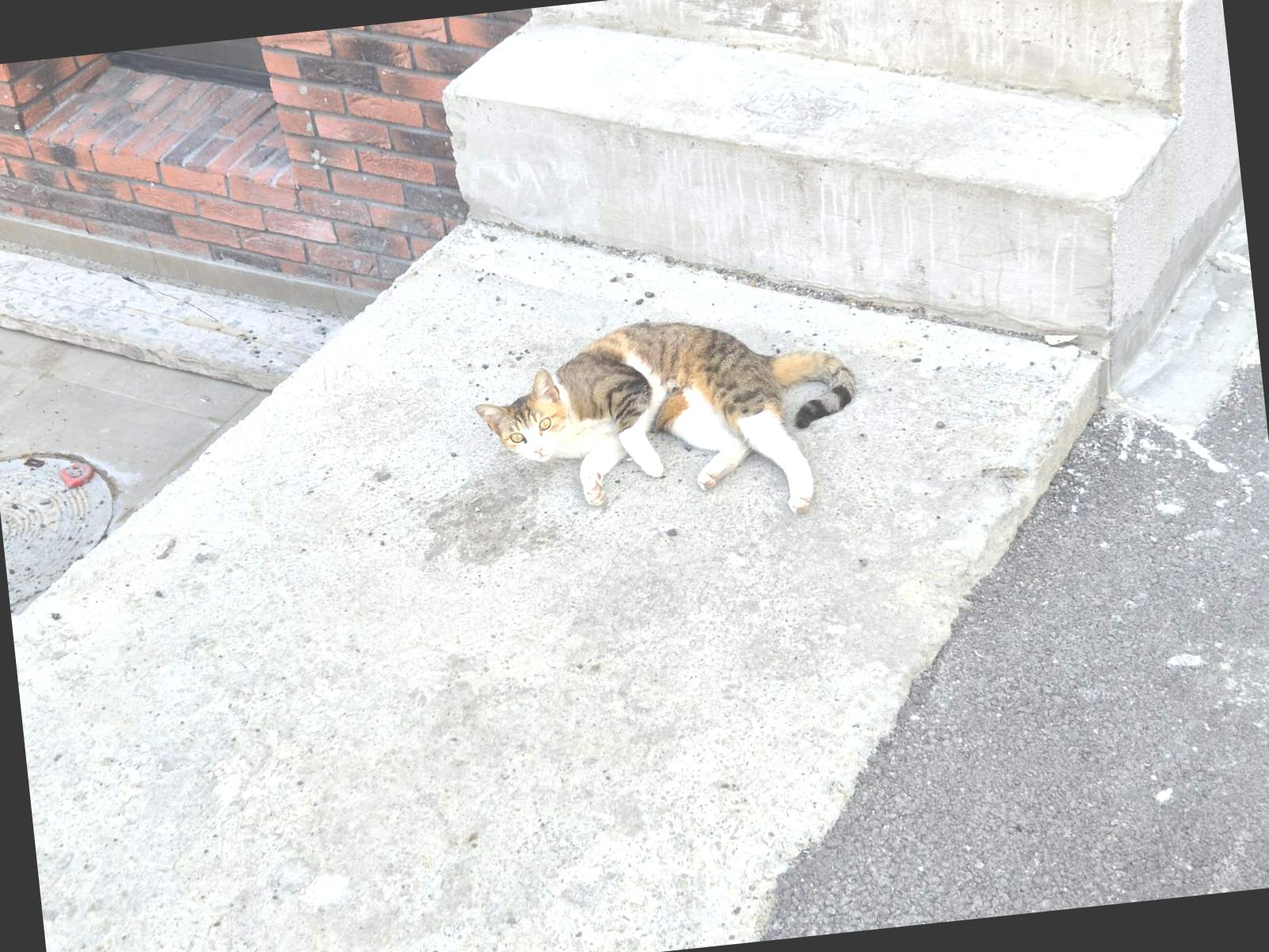macka: (468, 299, 870, 548)
